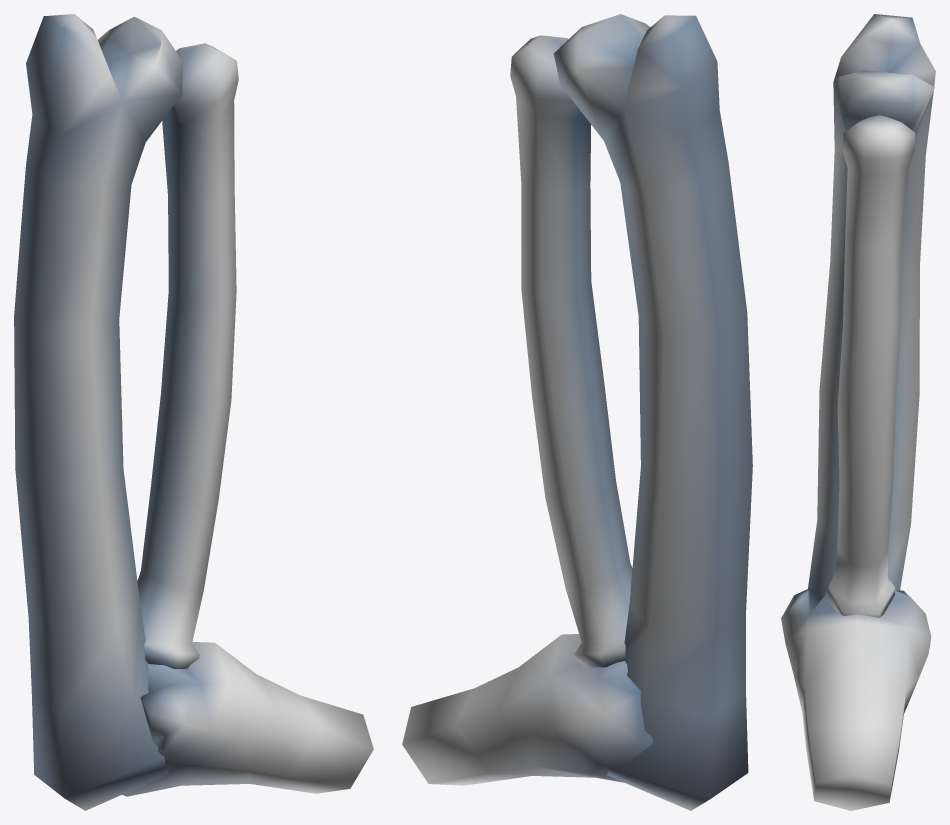
Rendered from Leg.gltf.
3 views of the same model, side by side, from view 1: azimuth 30°, elevation 25°; view 2: azimuth 150°, elevation 25°; view 3: azimuth 270°, elevation 25° (orthographic). The views are drawn at different scales.
Visible parts, largest first — view 1: LegMesh; view 2: LegMesh; view 3: LegMesh.
Boxes of the visible parts, x1,y1,x2,y2 form: LegMesh: (14,14,373,810); LegMesh: (402,14,752,810); LegMesh: (781,14,935,810).
Bounding box in the file's own units: 1.49 × 3.57 × 0.7157.
